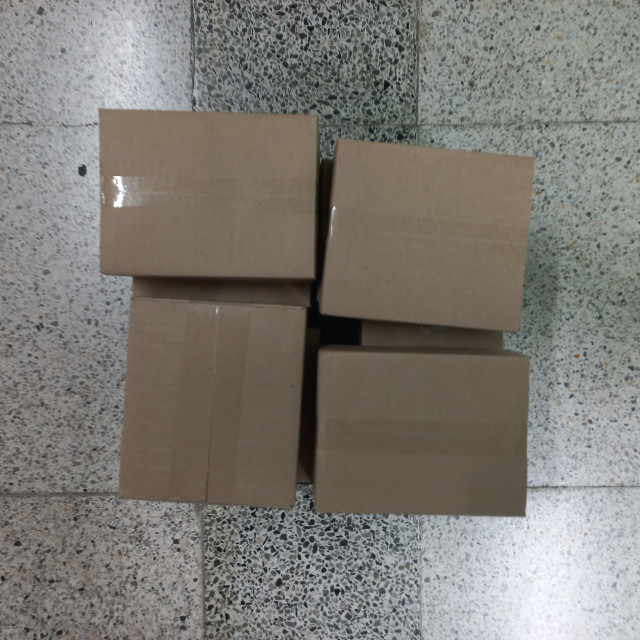box: (315, 132, 485, 336), (165, 276, 310, 512), (151, 106, 321, 284), (313, 343, 481, 522)
